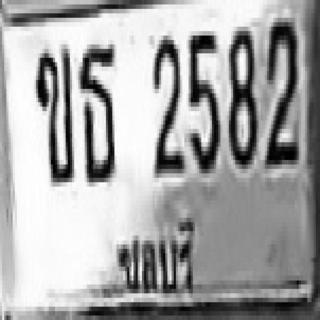A02: (34, 44, 73, 184)
A24: (77, 40, 116, 182)
N02: (266, 17, 297, 164), (153, 35, 183, 172)
N05: (189, 32, 220, 174)
N08: (228, 26, 256, 168)
P13: (115, 210, 204, 313)
